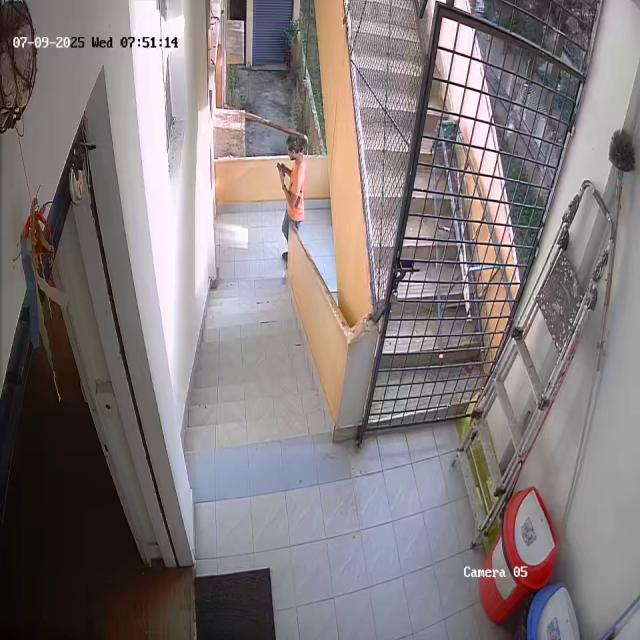person: (278, 134, 306, 256)
